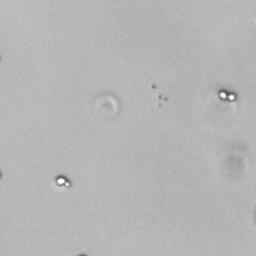budding: (217, 86, 238, 103), (53, 173, 72, 190)
